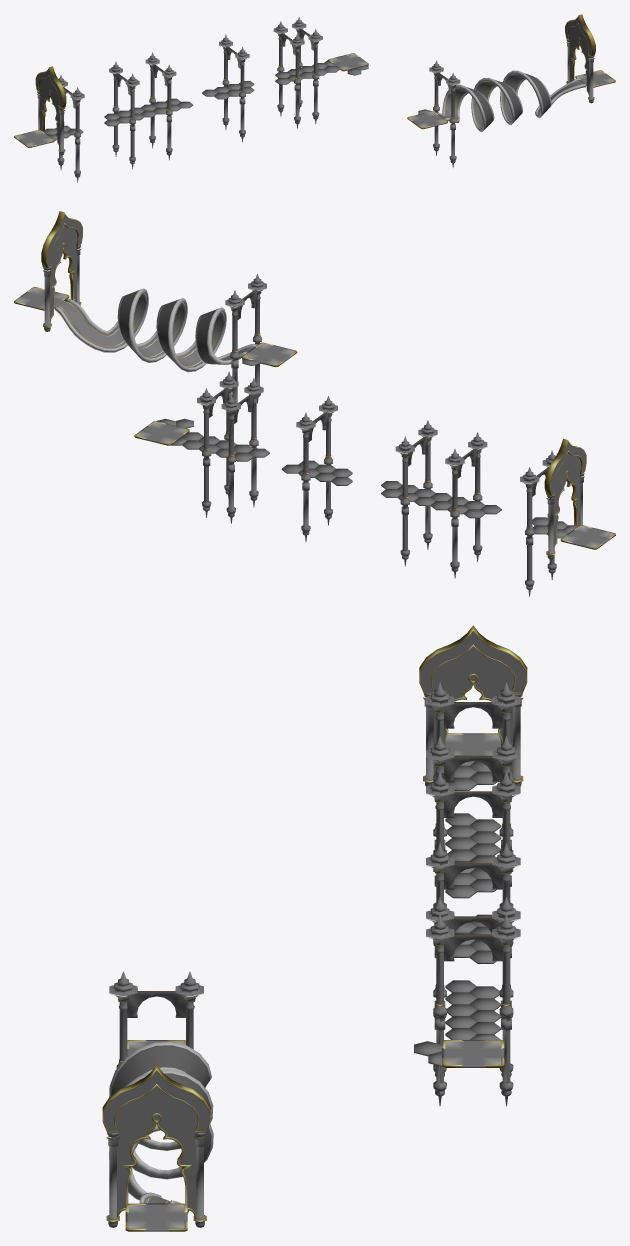
File: SpaceA.gltf
3 views of the same model, one above another, from view 1: azimuth 30°, elevation 25°; view 2: azimuth 150°, elevation 25°; view 3: azimuth 270°, elevation 25° (orthographic). The views are drawn at different scales.
Parts seen in each view (by area): view 1: stg071_k20_Mesh_0009, stg071_k20_Mesh_0027, stg071_k20_Mesh_0000, stg071_o20_Mesh_0000, stg071_k20_Mesh_0002, stg071_k20_Mesh_0007, stg071_k20_Mesh_0013, stg071_k20_Mesh_0034, stg071_k20_Mesh_0044, stg071_k20_Mesh_0017, stg071_k20_Mesh_0032, stg071_k20_Mesh_0019; view 2: stg071_k20_Mesh_0009, stg071_k20_Mesh_0027, stg071_k20_Mesh_0000, stg071_o20_Mesh_0000, stg071_k20_Mesh_0002, stg071_k20_Mesh_0013, stg071_k20_Mesh_0019, stg071_k20_Mesh_0034, stg071_k20_Mesh_0044, stg071_k20_Mesh_0007, stg071_k20_Mesh_0017, stg071_k20_Mesh_0032 (+1 smaller); view 3: stg071_k20_Mesh_0009, stg071_k20_Mesh_0000, stg071_k20_Mesh_0027, stg071_k20_Mesh_0034, stg071_o20_Mesh_0000, stg071_k20_Mesh_0017, stg071_k20_Mesh_0007, stg071_k20_Mesh_0013, stg071_k20_Mesh_0002, stg071_k20_Mesh_0032, stg071_k20_Mesh_0044, stg071_k20_Mesh_0019.
Part boxes in pixels (box(x1,y1,x2,y2)): stg071_k20_Mesh_0009: box(37, 17, 593, 182); stg071_k20_Mesh_0027: box(18, 55, 611, 146); stg071_k20_Mesh_0000: box(43, 60, 431, 140); stg071_o20_Mesh_0000: box(14, 14, 615, 152); stg071_k20_Mesh_0002: box(20, 55, 609, 144); stg071_k20_Mesh_0007: box(36, 16, 591, 121); stg071_k20_Mesh_0013: box(64, 42, 454, 157); stg071_k20_Mesh_0034: box(63, 29, 451, 108); stg071_k20_Mesh_0044: box(16, 54, 613, 146); stg071_k20_Mesh_0017: box(39, 25, 588, 104); stg071_k20_Mesh_0032: box(40, 36, 589, 146); stg071_k20_Mesh_0019: box(38, 22, 593, 171); stg071_k20_Mesh_0009: box(43, 244, 584, 596); stg071_k20_Mesh_0027: box(20, 288, 610, 547); stg071_k20_Mesh_0000: box(156, 358, 578, 538); stg071_o20_Mesh_0000: box(14, 211, 615, 555); stg071_k20_Mesh_0002: box(22, 291, 607, 544); stg071_k20_Mesh_0013: box(202, 299, 554, 581); stg071_k20_Mesh_0019: box(44, 246, 583, 586); stg071_k20_Mesh_0034: box(209, 290, 549, 496); stg071_k20_Mesh_0044: box(16, 288, 613, 547); stg071_k20_Mesh_0007: box(47, 214, 586, 513); stg071_k20_Mesh_0017: box(51, 225, 580, 491); stg071_k20_Mesh_0032: box(50, 241, 580, 548); stg071_k20_Mesh_0009: box(107, 682, 522, 1227); stg071_k20_Mesh_0000: box(201, 761, 501, 1066); stg071_k20_Mesh_0027: box(109, 733, 504, 1231); stg071_k20_Mesh_0034: box(127, 702, 502, 1017); stg071_o20_Mesh_0000: box(102, 625, 527, 1231); stg071_k20_Mesh_0017: box(115, 646, 514, 1131); stg071_k20_Mesh_0007: box(104, 631, 525, 1162); stg071_k20_Mesh_0013: box(119, 720, 513, 1083); stg071_k20_Mesh_0002: box(128, 734, 501, 1228); stg071_k20_Mesh_0032: box(117, 671, 512, 1214); stg071_k20_Mesh_0044: box(128, 734, 501, 1228); stg071_k20_Mesh_0019: box(108, 693, 521, 1226).
Size of the model in its own units: 297 by 63.8 by 107.
